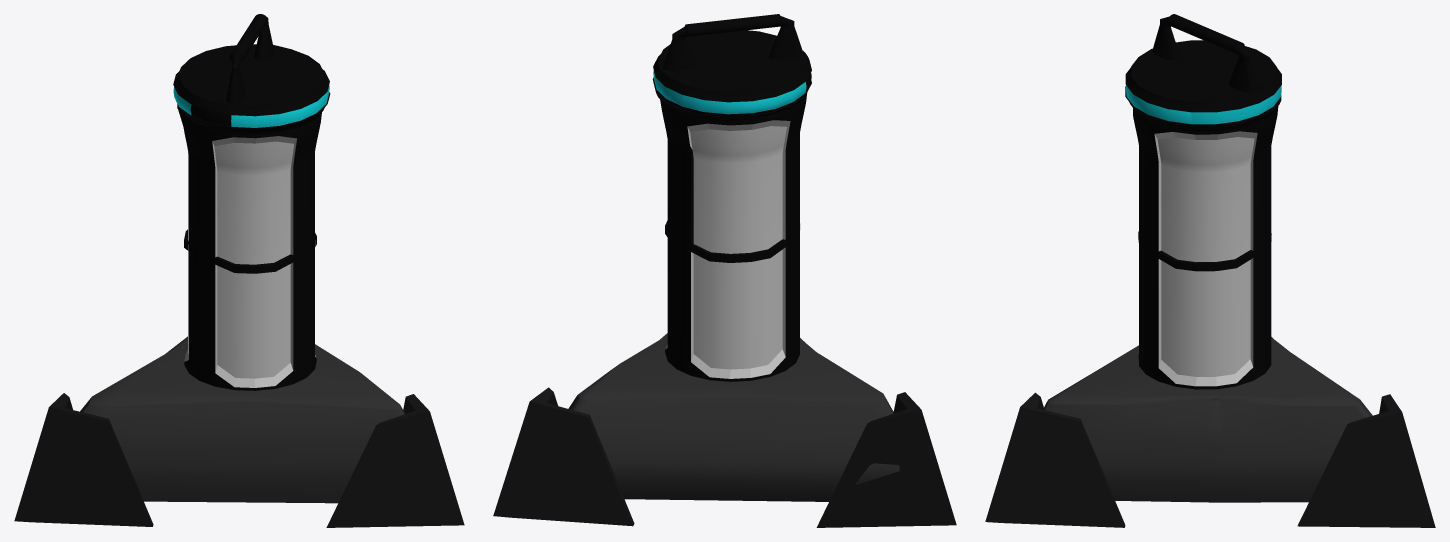
The model's file is animation.fbx.
The picture shows the model from 3 angles, left to right: view 1: azimuth 30°, elevation 25°; view 2: azimuth 150°, elevation 25°; view 3: azimuth 270°, elevation 25°; orthographic projection.
Visible parts, largest first — view 1: pCylinder1, pCube1, pCube2, pasted__pPyramid1, pPyramid1; view 2: pCube1, pCylinder1, pasted__pPyramid1 (×2), pCube2; view 3: pCylinder1, pCube1, pCube2, pPyramid1, pasted__pPyramid1.
Boxes of the visible parts, bbox=[...] form: pCylinder1: bbox=[177, 104, 321, 390]; pCube1: bbox=[80, 336, 404, 503]; pCube2: bbox=[173, 14, 330, 134]; pasted__pPyramid1: bbox=[14, 393, 153, 526]; pPyramid1: bbox=[326, 394, 464, 527]; pCube1: bbox=[568, 333, 899, 501]; pCylinder1: bbox=[660, 93, 807, 381]; pasted__pPyramid1 (×2): bbox=[493, 387, 956, 527]; pCube2: bbox=[652, 14, 811, 121]; pCylinder1: bbox=[1133, 106, 1278, 389]; pCube1: bbox=[1043, 337, 1372, 502]; pCube2: bbox=[1125, 14, 1281, 131]; pPyramid1: bbox=[985, 392, 1125, 527]; pasted__pPyramid1: bbox=[1297, 394, 1435, 527].
Bounding box in the file's own units: 2.68 × 3.25 × 2.97.
